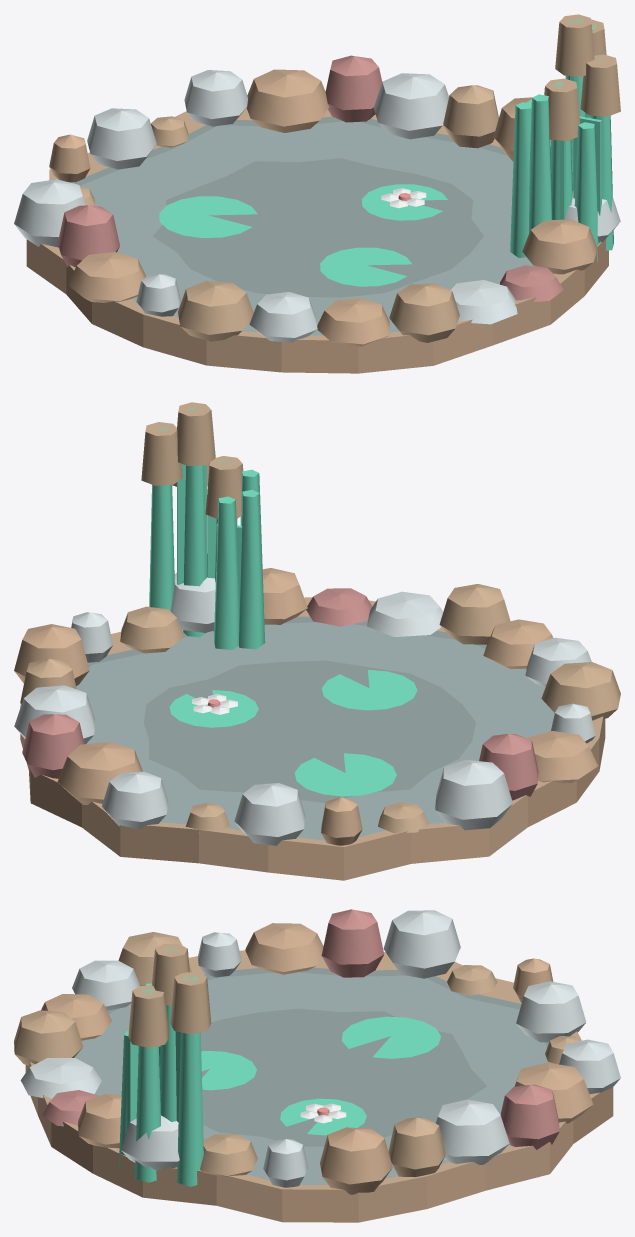
The model's file is fishingPond.glb.
3 renders of one model, top to bottom at view 1: azimuth 30°, elevation 25°; view 2: azimuth 150°, elevation 25°; view 3: azimuth 270°, elevation 25°, orthographic. The views are drawn at different scales.
Parts seen in each view (by area): view 1: fishingPond; view 2: fishingPond; view 3: fishingPond.
Boxes of the visible parts, box(x1,y1,x2,y2) form: fishingPond: box(14, 14, 620, 373); fishingPond: box(14, 402, 620, 880); fishingPond: box(14, 909, 620, 1222).
Size of the model in its own units: 0.9333 by 0.407 by 0.9388.
